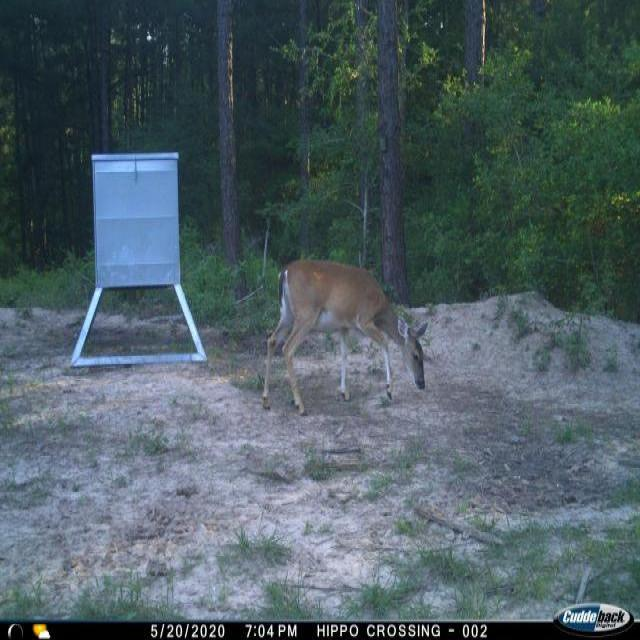deer: (260, 253, 430, 420)
